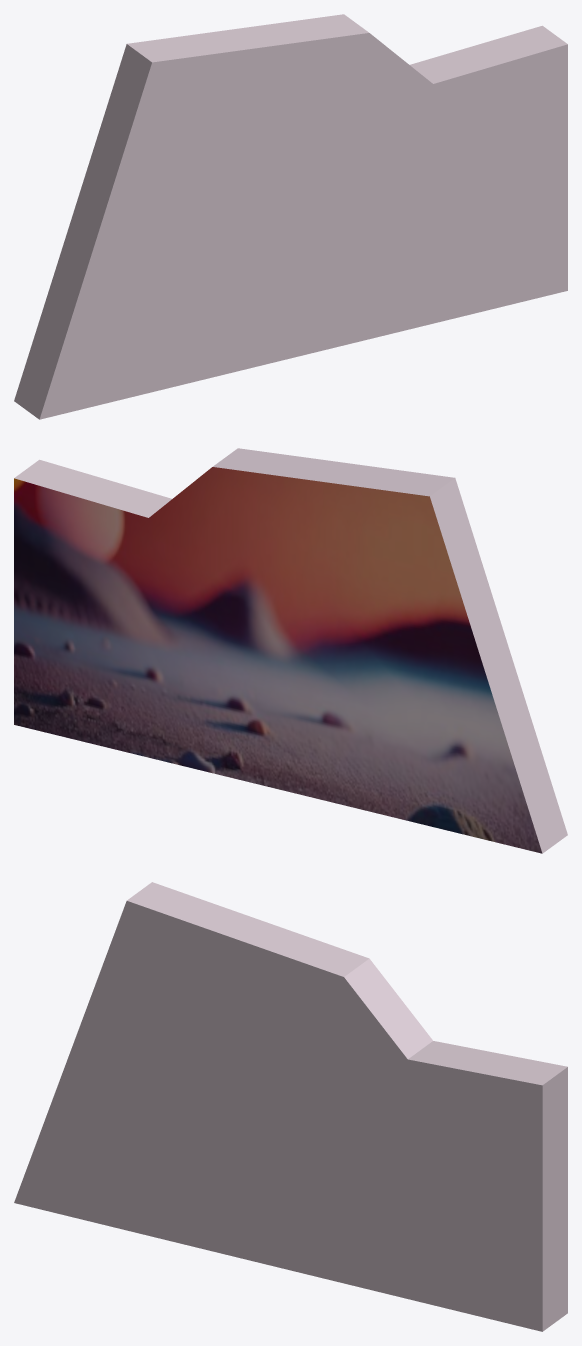
Rendered from monde10.glb.
The picture shows the model from 3 angles, top to bottom: view 1: azimuth 30°, elevation 25°; view 2: azimuth 150°, elevation 25°; view 3: azimuth 330°, elevation 25°; orthographic projection.
Visible parts, largest first — view 1: Plane.011; view 2: Plane.011; view 3: Plane.011.
Boxes of the visible parts, x1,y1,x2,y2 form: Plane.011: (14,14,567,419); Plane.011: (14,448,567,853); Plane.011: (14,882,567,1331).
Size of the model in its own units: 58.94 by 35.14 by 4.92.
2 materials, 1 textured.
